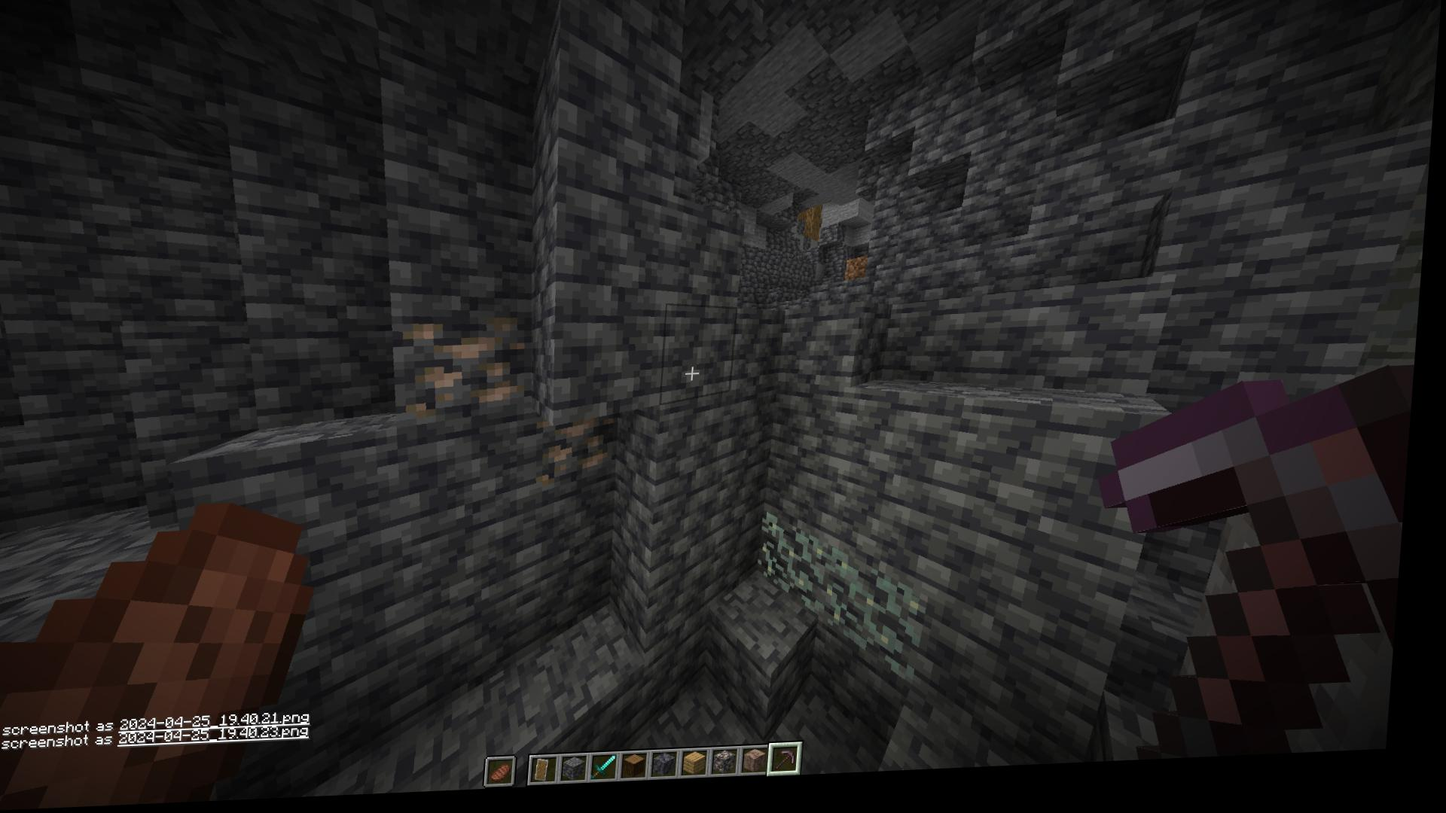iron ore: (394, 320, 544, 421), (541, 421, 624, 487)
